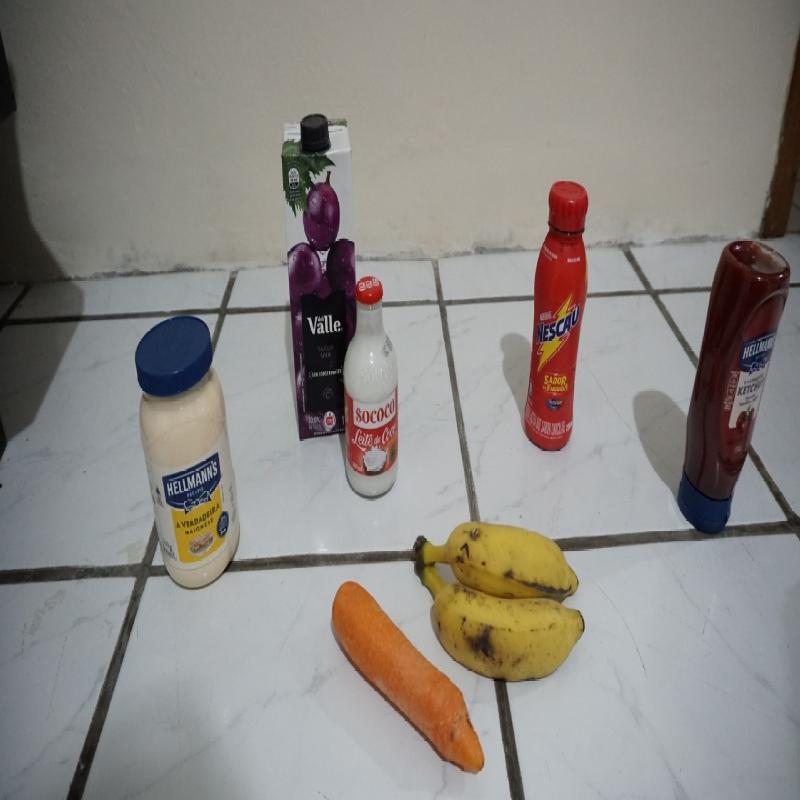Banana: (410, 512, 590, 682)
Carrot: (329, 572, 412, 718)
Chocolate Milk: (524, 179, 582, 454)
Coconut Milk: (340, 280, 399, 500)
Ketchup: (677, 234, 792, 544)
Mayonnaise: (133, 316, 242, 590)
